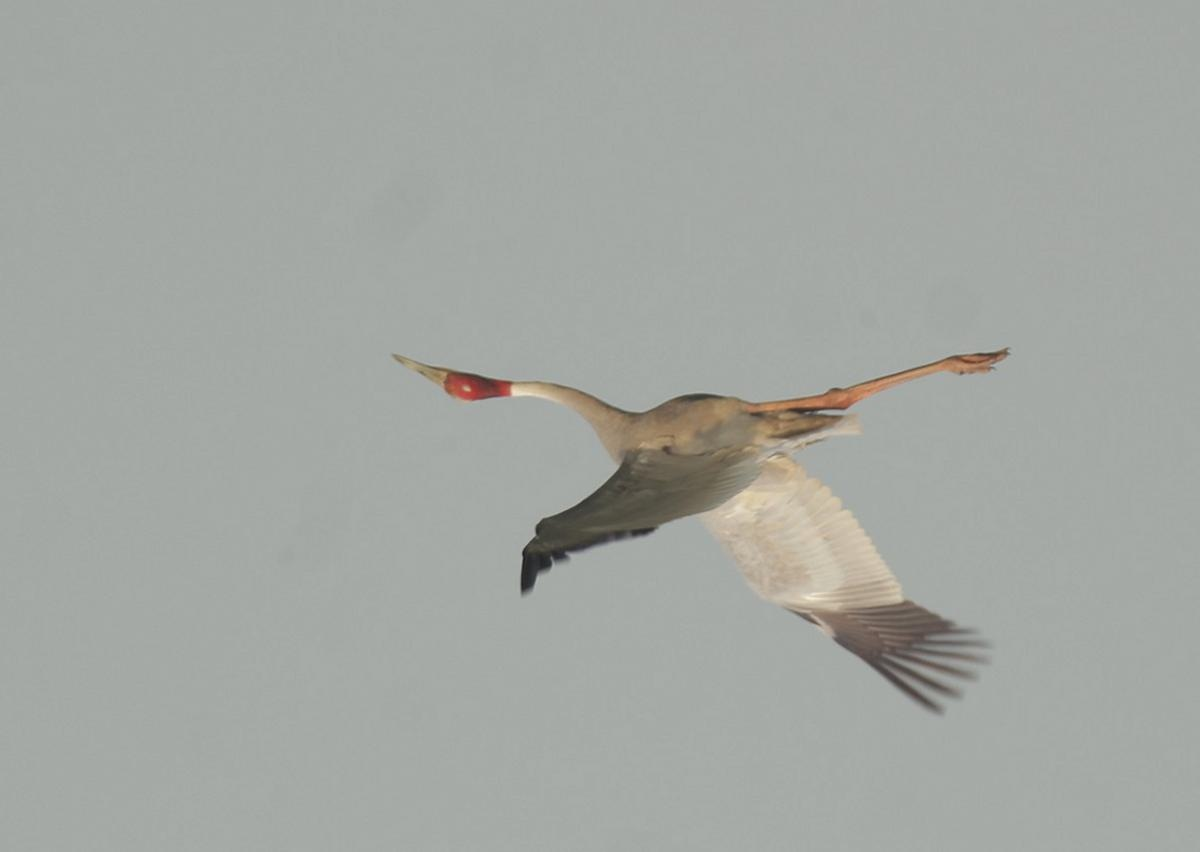crane: (378, 342, 1063, 724)
